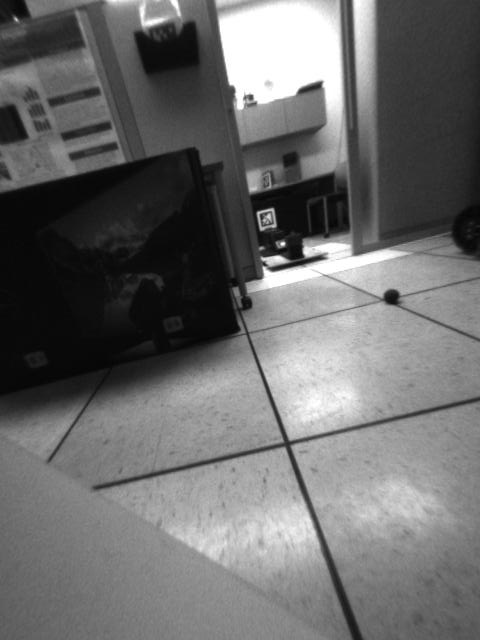dogtoy: (377, 280, 408, 309)
